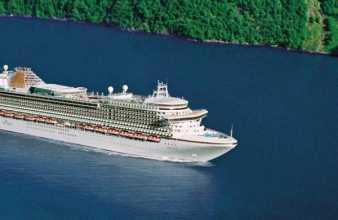youlun: (1, 63, 241, 170)
